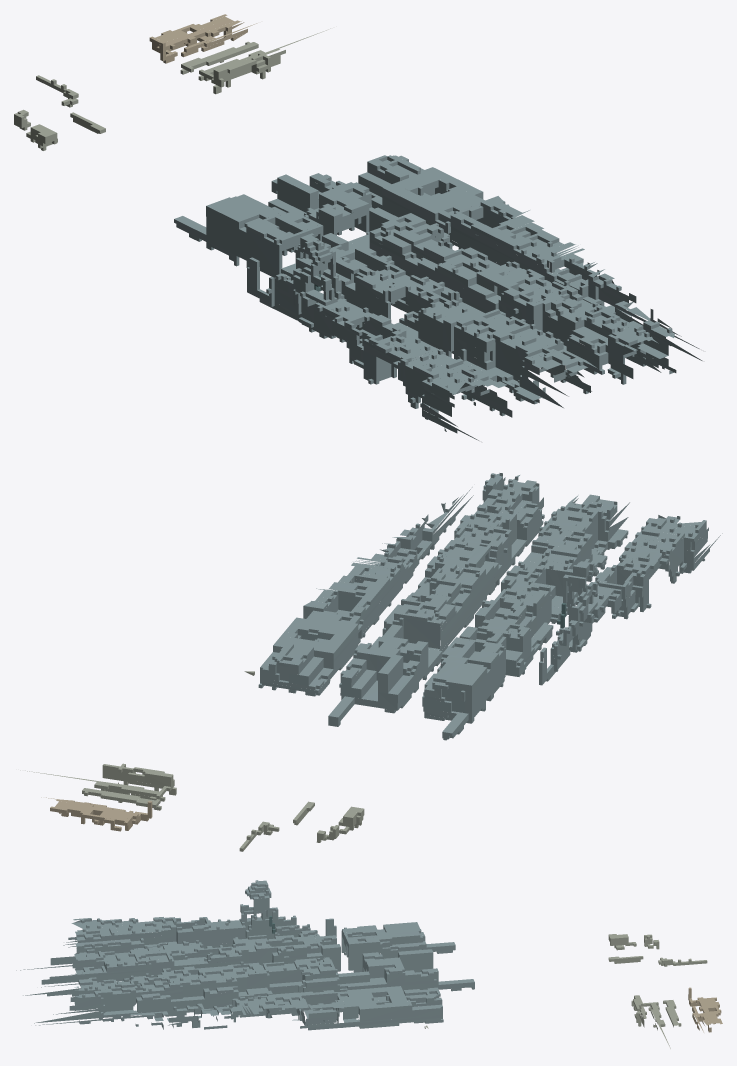
The picture shows the model from 3 angles, top to bottom: view 1: azimuth 30°, elevation 25°; view 2: azimuth 150°, elevation 25°; view 3: azimuth 270°, elevation 25°; orthographic projection. The views are drawn at different scales.
Visible parts, largest first — view 1: measured-industrial; view 2: measured-industrial; view 3: measured-industrial.
Boxes of the visible parts, left/top/right/bottom form: measured-industrial: left=14, top=14, right=702, bottom=440; measured-industrial: left=20, top=473, right=722, bottom=851; measured-industrial: left=16, top=880, right=722, bottom=1048.
Bounding box in the file's own units: 102 × 28.12 × 267.
